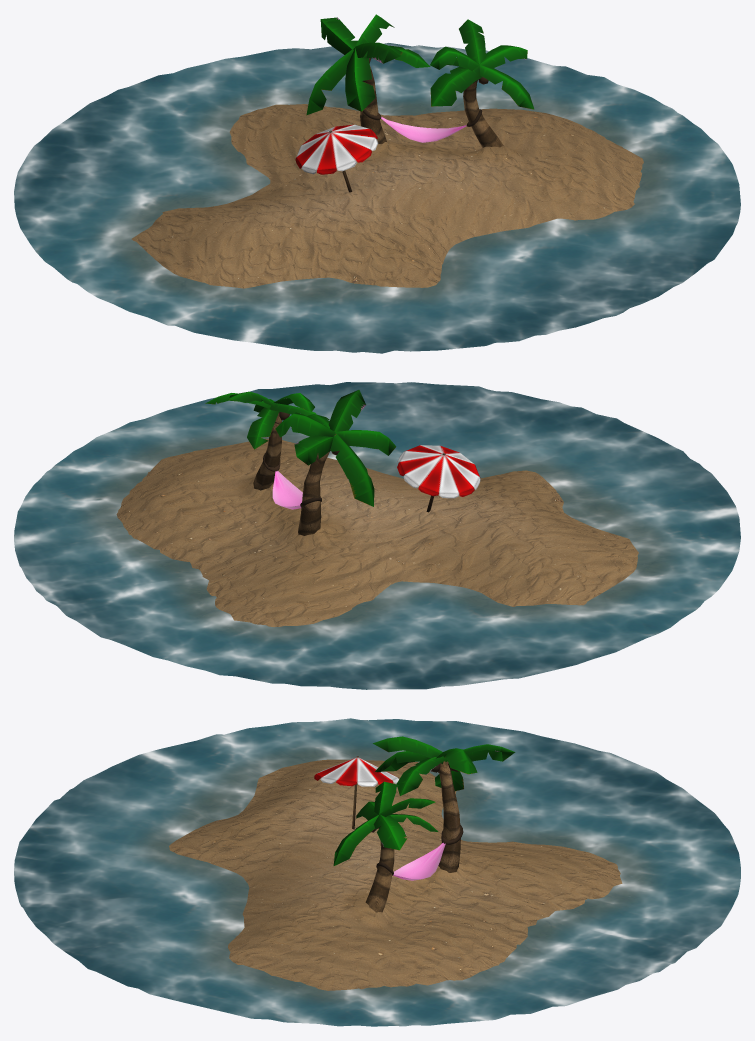
Rendered from beach.obj.
3 views of the same model, one above another, from view 1: azimuth 30°, elevation 25°; view 2: azimuth 150°, elevation 25°; view 3: azimuth 270°, elevation 25° (orthographic).
Parts seen in each view (by area): view 1: Water_geo_1.8_Mesh_4, Sand_geo_1.7_Mesh_3, Tree_geo_1.4_Mesh_1, Tree_geo_2.3_Mesh_0, Umbrella_geo_1.10_Mesh_5, Hammock_geo_1.5_Mesh_2; view 2: Water_geo_1.8_Mesh_4, Sand_geo_1.7_Mesh_3, Tree_geo_2.3_Mesh_0, Umbrella_geo_1.10_Mesh_5, Tree_geo_1.4_Mesh_1, Hammock_geo_1.5_Mesh_2; view 3: Water_geo_1.8_Mesh_4, Sand_geo_1.7_Mesh_3, Tree_geo_2.3_Mesh_0, Tree_geo_1.4_Mesh_1, Umbrella_geo_1.10_Mesh_5, Hammock_geo_1.5_Mesh_2.
Boxes of the visible parts, bbox=[...] form: Water_geo_1.8_Mesh_4: bbox=[14, 43, 740, 353]; Sand_geo_1.7_Mesh_3: bbox=[131, 104, 643, 288]; Tree_geo_1.4_Mesh_1: bbox=[430, 19, 534, 147]; Tree_geo_2.3_Mesh_0: bbox=[306, 14, 430, 143]; Umbrella_geo_1.10_Mesh_5: bbox=[295, 124, 378, 192]; Hammock_geo_1.5_Mesh_2: bbox=[362, 109, 482, 142]; Water_geo_1.8_Mesh_4: bbox=[14, 382, 740, 689]; Sand_geo_1.7_Mesh_3: bbox=[116, 438, 638, 627]; Tree_geo_2.3_Mesh_0: bbox=[275, 390, 396, 535]; Umbrella_geo_1.10_Mesh_5: bbox=[397, 445, 480, 512]; Tree_geo_1.4_Mesh_1: bbox=[205, 391, 316, 490]; Hammock_geo_1.5_Mesh_2: bbox=[263, 453, 321, 509]; Water_geo_1.8_Mesh_4: bbox=[14, 718, 740, 1026]; Sand_geo_1.7_Mesh_3: bbox=[169, 759, 622, 990]; Tree_geo_2.3_Mesh_0: bbox=[373, 736, 515, 872]; Tree_geo_1.4_Mesh_1: bbox=[333, 781, 438, 912]; Umbrella_geo_1.10_Mesh_5: bbox=[314, 756, 398, 829]; Hammock_geo_1.5_Mesh_2: bbox=[376, 825, 463, 880].
Bounding box in the file's own units: 32.53 × 7.67 × 32.53.
Materials: 6 (6 with a texture image).
